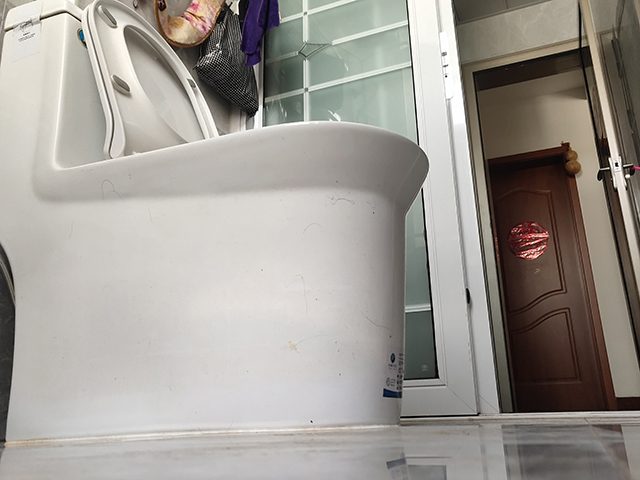closestool: (1, 1, 430, 443)
